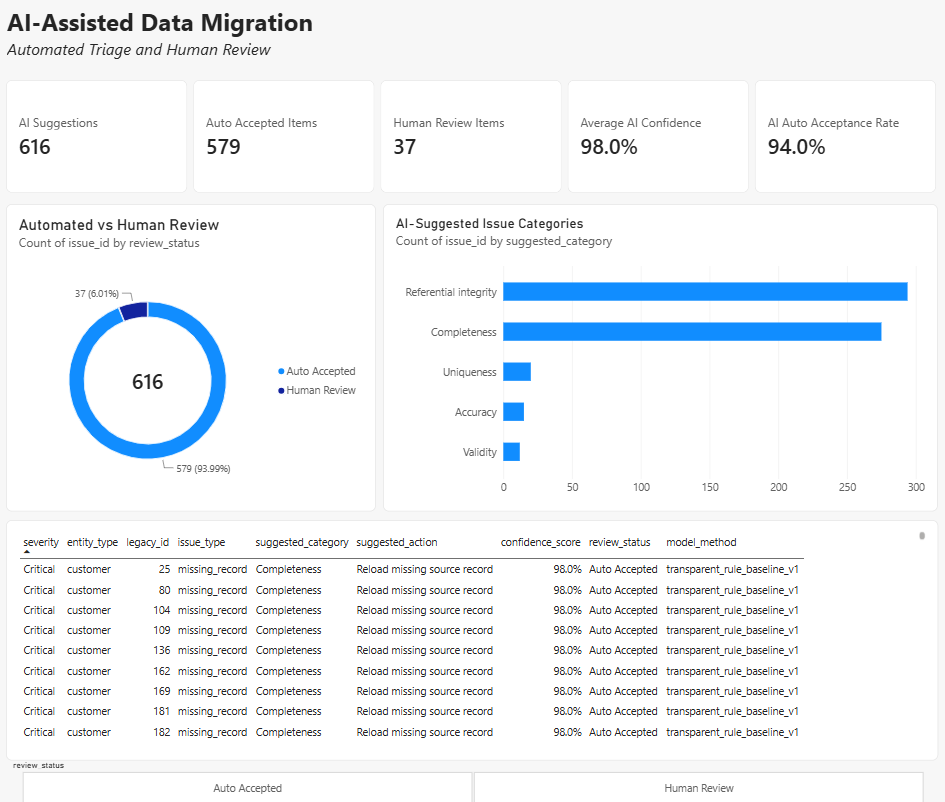

The dashboard page shown, as its layout file describes it:
{"tool":"powerbi","page":{"name":"AI Review Queue","canvas":[1920,1080],"ordinal":3},"visuals":[{"type":"textbox","box":[10.3,14.7,1239.8,103.1],"z":0},{"type":"cardVisual","fields":{"Data":["_Measures.AI Suggestions","_Measures.Auto Accepted Items","_Measures.Human Review Items","_Measures.Average AI Confidence","_Measures.AI Auto Acceptance Rate"]},"box":[8.8,114.8,1239.8,150.2],"z":1000},{"type":"donutChart","title":"Automated vs Human Review","fields":{"Category":["ai_review_queue.review_status"],"Y":["CountNonNull(ai_review_queue.issue_id)"]},"box":[8.8,279.8,491.8,409.3],"z":2000},{"type":"clusteredBarChart","title":"AI-Suggested Issue Categories","fields":{"Category":["ai_review_queue.suggested_category"],"Y":["CountNonNull(ai_review_queue.issue_id)"]},"box":[510.9,279.8,737.7,409.3],"z":3000},{"type":"tableEx","fields":{"Values":["migration_issues.severity","migration_issues.entity_type","migration_issues.legacy_id","migration_issues.issue_type","ai_review_queue.suggested_category","ai_review_queue.suggested_action","ai_review_queue.confidence_score","ai_review_queue.review_status","ai_review_queue.model_method"]},"box":[8.8,699.4,1239.8,319.5],"z":4000},{"type":"slicer","fields":{"Values":["ai_review_queue.review_status"]},"box":[10.3,1018.9,1238.3,61.8],"z":5000}]}

Visuals, with their boxes on the page's 1920x1080 design canvas (x1, y1, x2, y2). These are canvas units, not pixel positions in the 945x802 screenshot, which may show the page scaled, cropped or inside an application window:
textbox: 10 15 1250 118
cardVisual - _Measures.AI Suggestions x _Measures.Auto Accepted Items: 9 115 1249 265
"Automated vs Human Review" donutChart: 9 280 501 689
"AI-Suggested Issue Categories" clusteredBarChart: 511 280 1249 689
tableEx - migration_issues.severity x migration_issues.entity_type: 9 699 1249 1019
slicer - ai_review_queue.review_status: 10 1019 1249 1081
